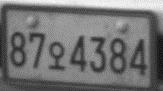3: (89, 35, 107, 73)
4: (128, 38, 150, 77), (69, 34, 88, 71)
7: (28, 31, 47, 69)
8: (109, 36, 127, 75), (9, 30, 26, 67)
오: (48, 41, 66, 70)
